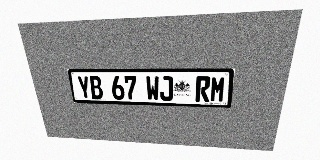6: (110, 76, 125, 100)
7: (123, 76, 138, 100)
B: (88, 76, 104, 99)
J: (159, 76, 173, 101)
M: (210, 76, 226, 102)
R: (195, 76, 211, 102)
W: (145, 76, 159, 101)
Y: (76, 76, 92, 99)
